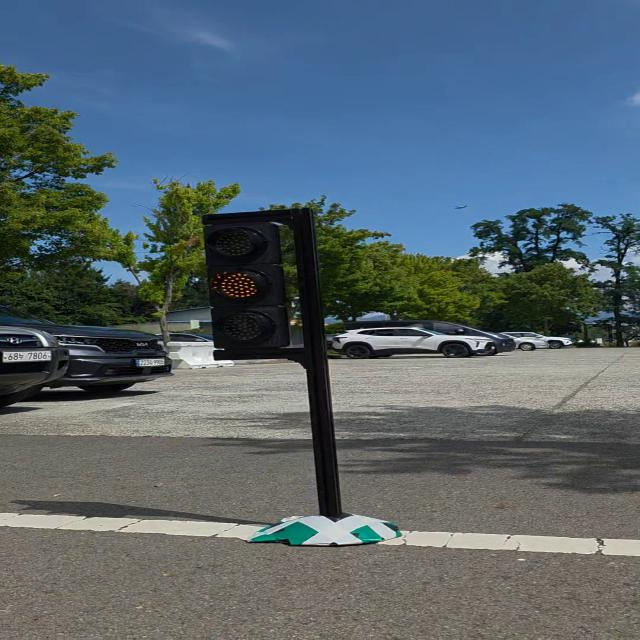yellow: (196, 218, 300, 356)
